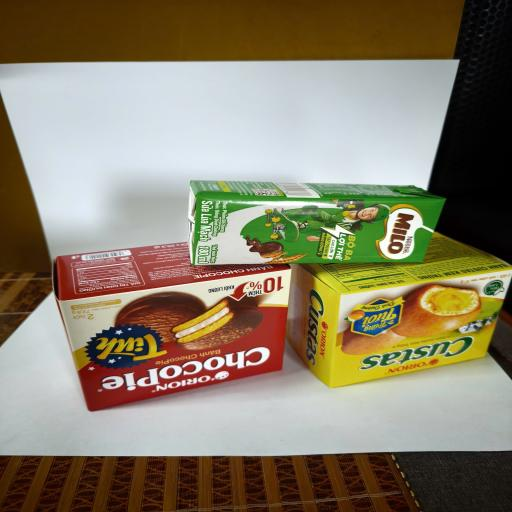chocopie: (51, 240, 292, 412)
custas: (285, 232, 512, 388)
milo: (188, 180, 446, 266)
